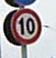limite 10: (10, 8, 41, 44)
